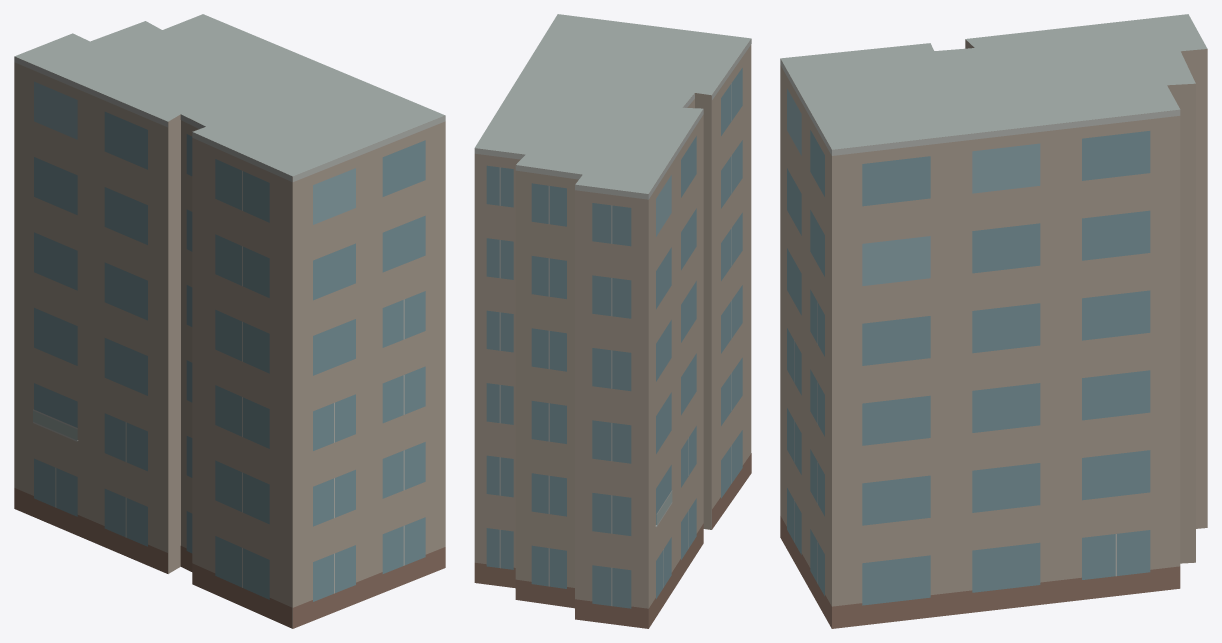
Rendered from survey-upis-32872581.glb.
3 views of the same model, side by side, from view 1: azimuth 30°, elevation 25°; view 2: azimuth 150°, elevation 25°; view 3: azimuth 270°, elevation 25° (orthographic). The views are drawn at different scales.
Visible parts, largest first — view 1: survey-upis-32872581.tmp; view 2: survey-upis-32872581.tmp; view 3: survey-upis-32872581.tmp.
Boxes of the visible parts, x1,y1,x2,y2 form: survey-upis-32872581.tmp: (14,14,445,628); survey-upis-32872581.tmp: (474,14,751,628); survey-upis-32872581.tmp: (780,14,1207,628).
Size of the model in its own units: 11.53 by 18.95 by 15.33.
